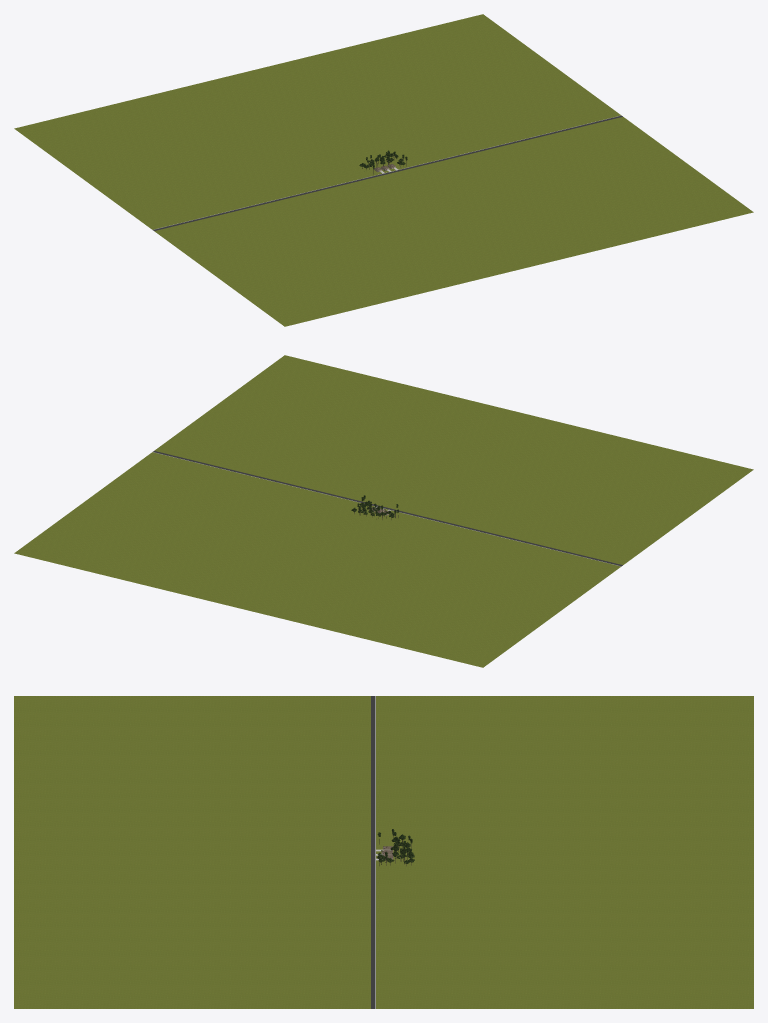
Rendered from MyHouse_Full.glb.
The picture shows the model from 3 angles, top to bottom: view 1: azimuth 30°, elevation 25°; view 2: azimuth 150°, elevation 25°; view 3: azimuth 270°, elevation 25°; orthographic projection. The views are drawn at different scales.
Parts seen in each view (by area): view 1: Yard_Lawn, Yard_Street; view 2: Yard_Lawn, Yard_Street; view 3: Yard_Lawn, Yard_Street.
Part boxes in pixels (<box>): Yard_Lawn: <box>14,14,753,326</box>; Yard_Street: <box>153,115,622,230</box>; Yard_Lawn: <box>14,355,753,667</box>; Yard_Street: <box>153,451,622,566</box>; Yard_Lawn: <box>14,696,753,1008</box>; Yard_Street: <box>371,696,375,1008</box>.
Size of the model in its own units: 1200 by 25.92 by 1200.
24 materials, 15 textured.
